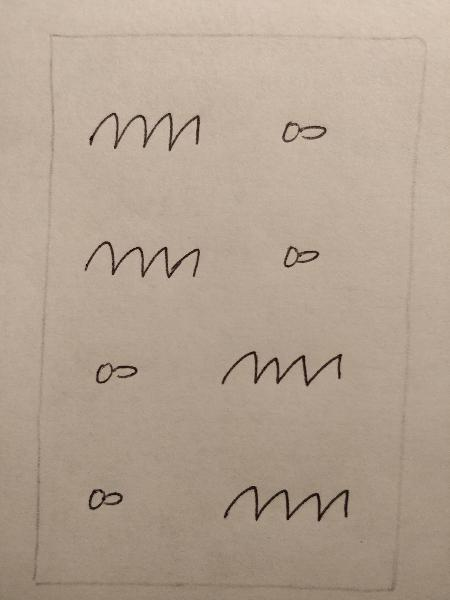switch: (80, 346, 150, 396), (270, 106, 339, 156), (273, 235, 337, 279), (77, 477, 134, 521)
text: (209, 468, 358, 539), (79, 227, 209, 289), (208, 341, 349, 395), (83, 103, 209, 158)
